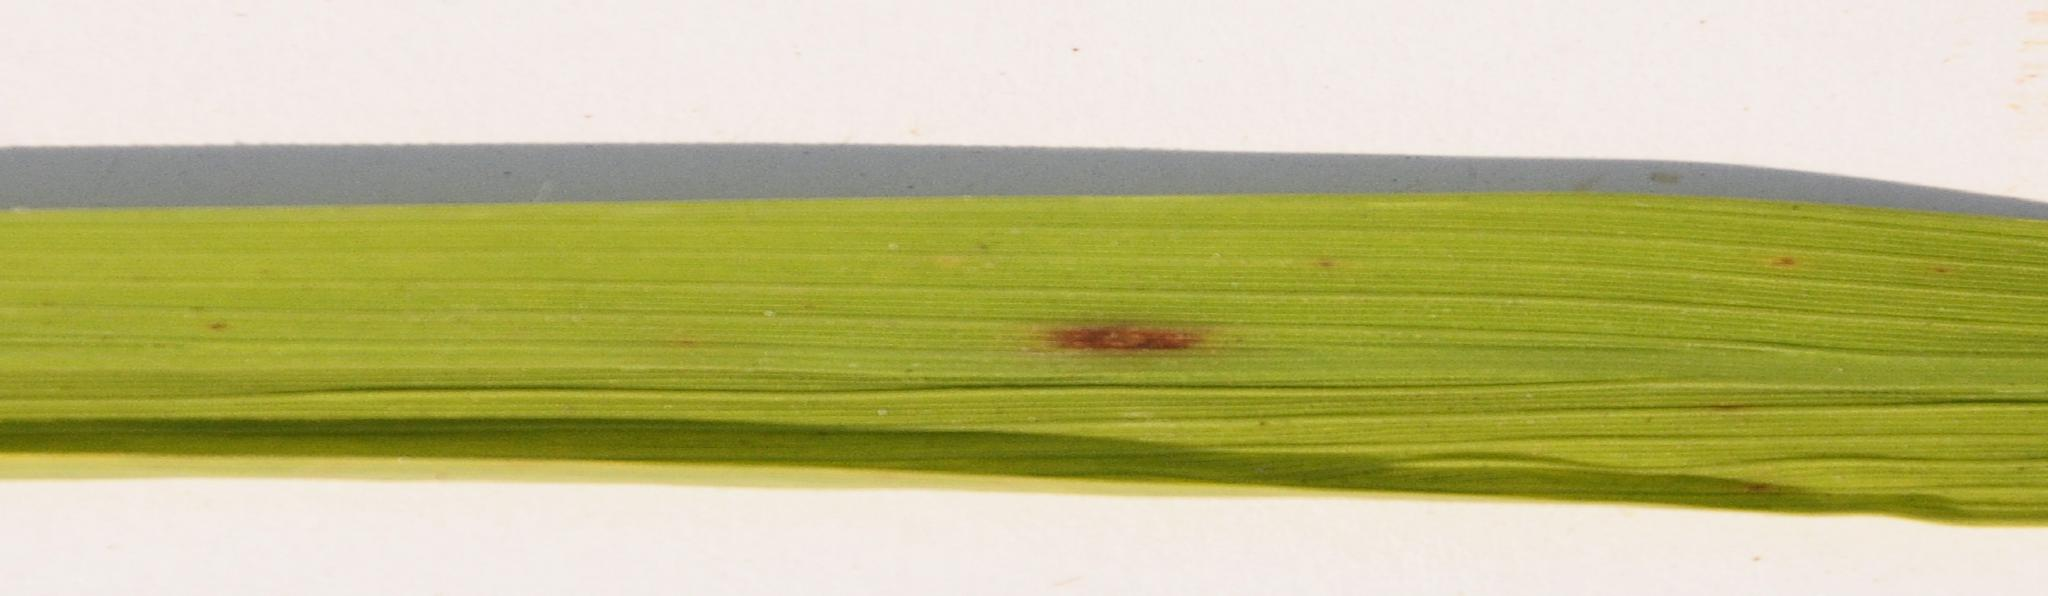0 BrownSpot: (997, 268, 1260, 388)
